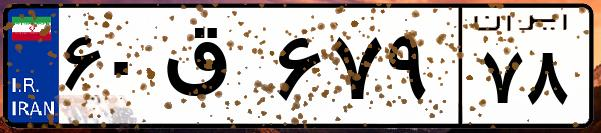0: (110, 28, 158, 98)
6: (270, 28, 330, 110), (57, 26, 110, 100)
7: (330, 28, 385, 110), (475, 38, 525, 113)
8: (525, 38, 570, 115)
9: (385, 28, 445, 110)
ق: (158, 20, 270, 120)
